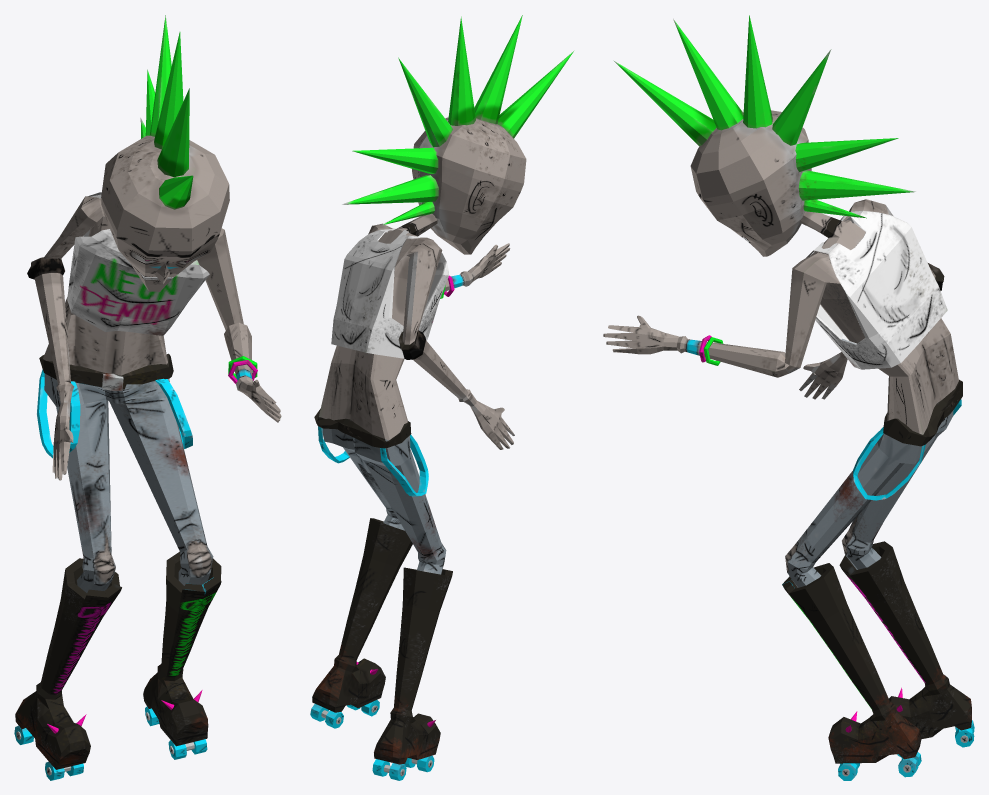
File: punkAnimation_000022.obj
3 renders of one model, left to right at view 1: azimuth 30°, elevation 25°; view 2: azimuth 150°, elevation 25°; view 3: azimuth 270°, elevation 25°, orthographic. The views are drawn at different scales.
Visible parts, largest first — view 1: Cube.004_Cube.003; view 2: Cube.004_Cube.003; view 3: Cube.004_Cube.003.
Boxes of the visible parts, <box> form: Cube.004_Cube.003: <box>14,15,281,780</box>; Cube.004_Cube.003: <box>310,15,574,780</box>; Cube.004_Cube.003: <box>603,15,974,780</box>.
Size of the model in its own units: 1.6 by 6.91 by 3.08.
